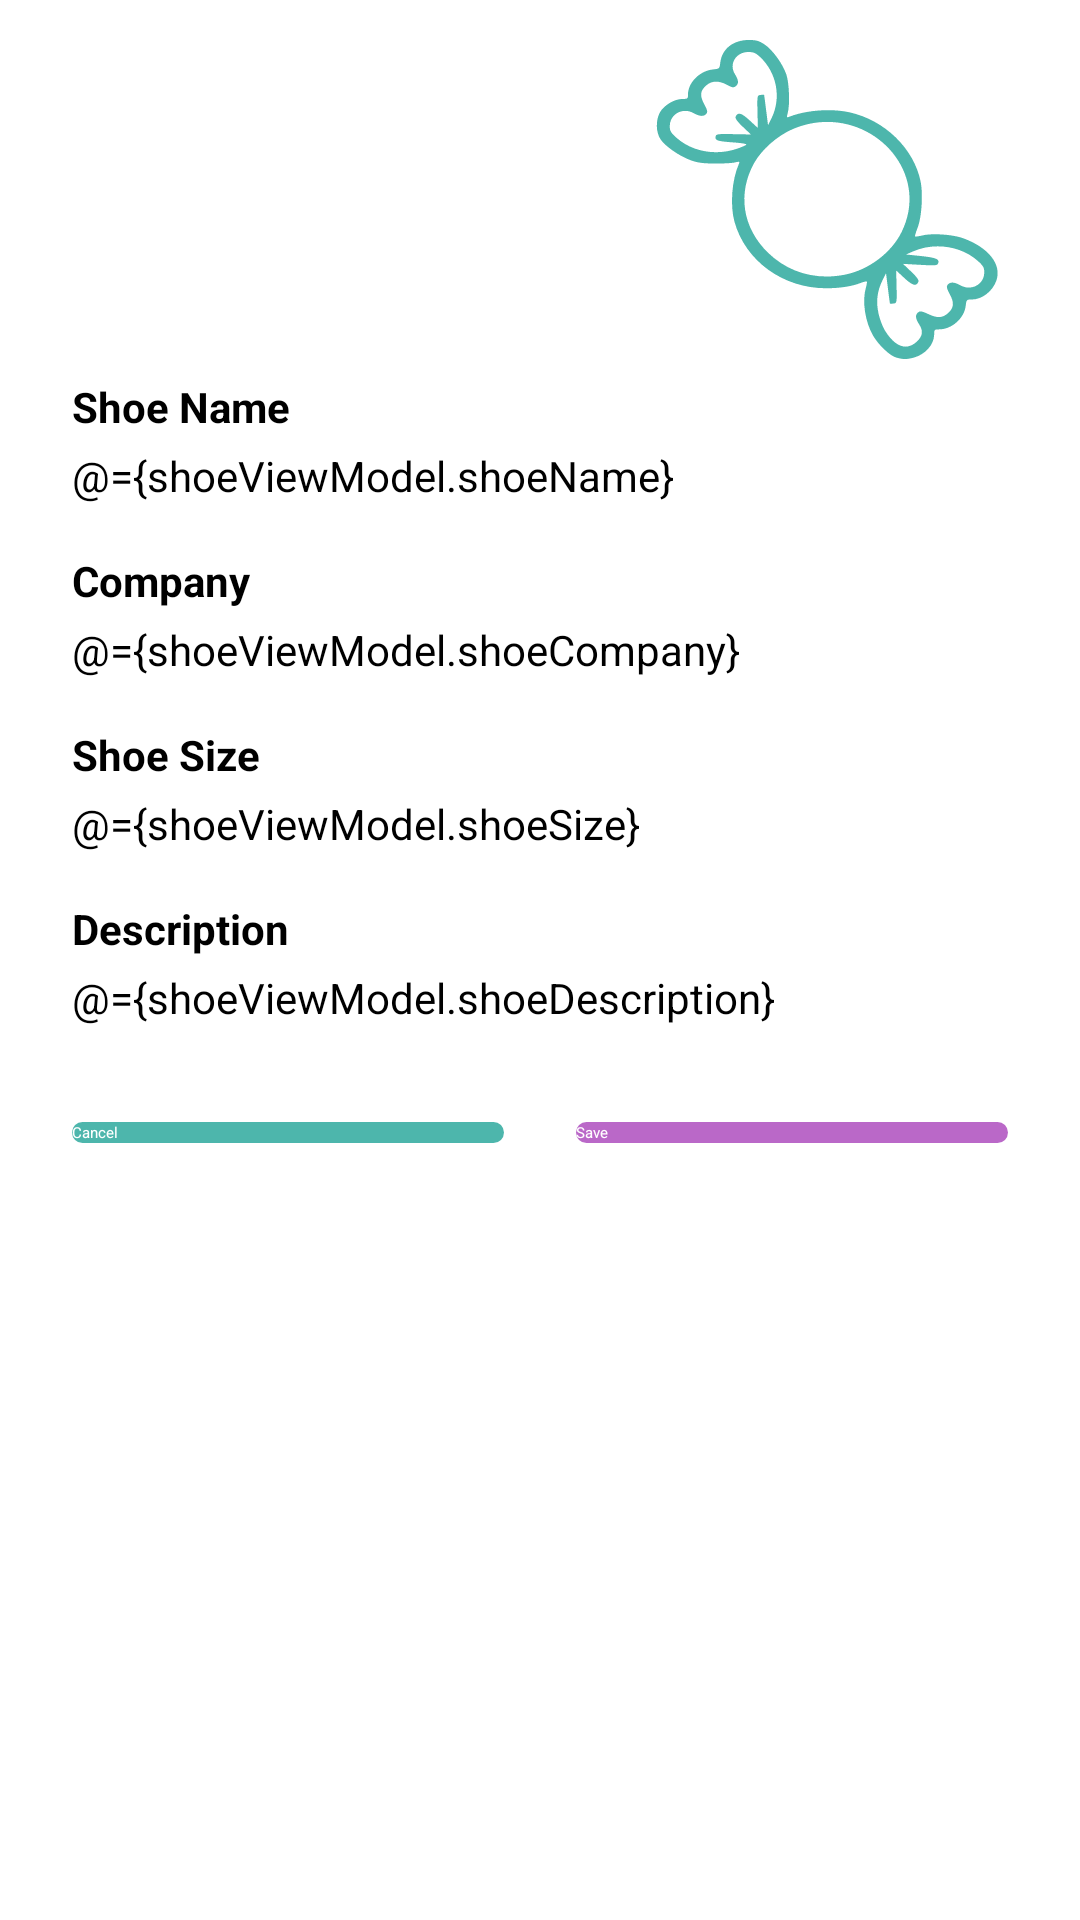

Named icons in this screenshot (1080*1920) and their centers, [x,y]:
sweet: [827,199]
